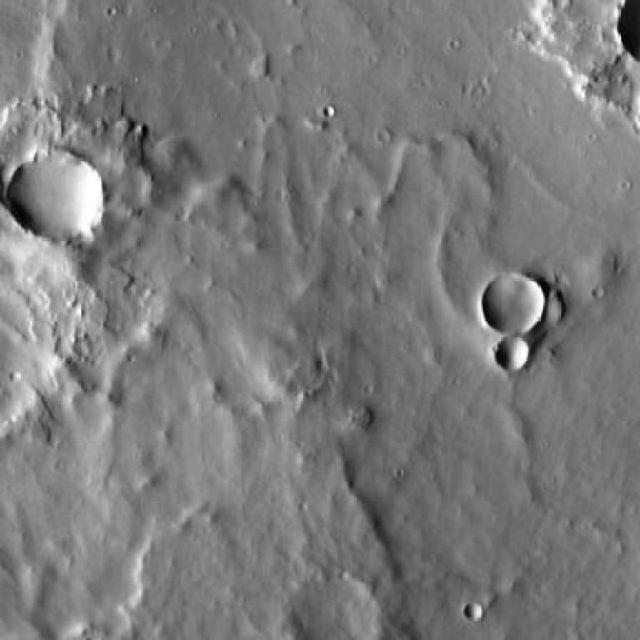crater: (10, 152, 105, 245), (291, 574, 384, 640), (486, 277, 546, 335), (498, 338, 530, 370), (442, 578, 461, 597)
